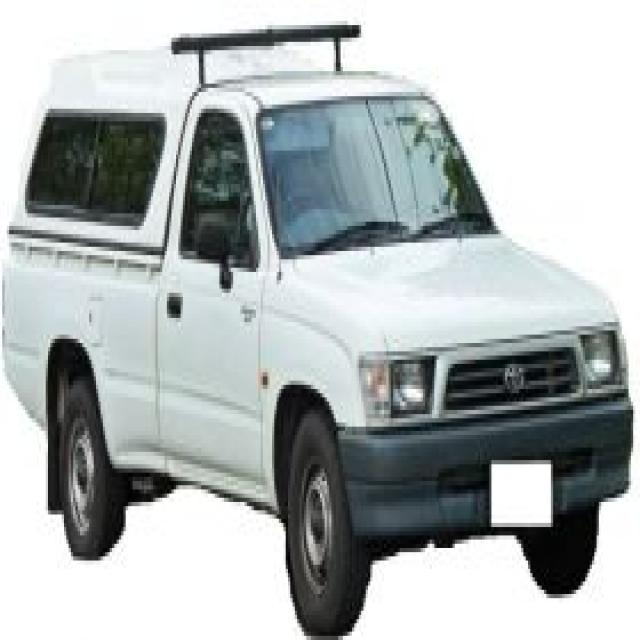light_vehicle: (9, 33, 636, 628)
